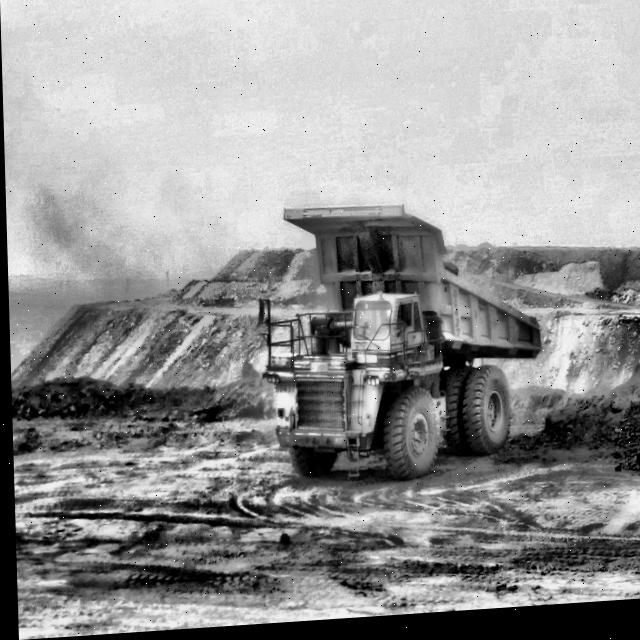dump_truck: (261, 211, 539, 486)
